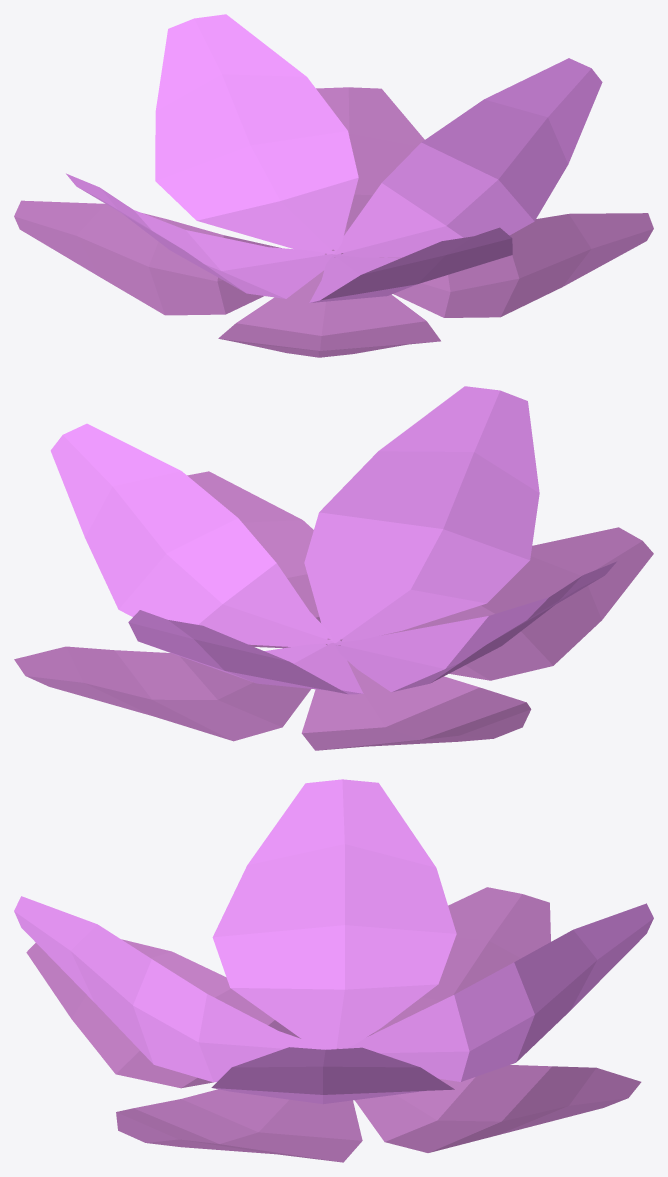
File: waterlily_purpleflower.fbx
3 views of the same model, one above another, from view 1: azimuth 30°, elevation 25°; view 2: azimuth 150°, elevation 25°; view 3: azimuth 270°, elevation 25° (orthographic). The views are drawn at different scales.
Parts seen in each view (by area): view 1: Flower_Purple; view 2: Flower_Purple; view 3: Flower_Purple.
Part boxes in pixels (x1,y1,x2,y2): Flower_Purple: (14, 14, 653, 357); Flower_Purple: (14, 386, 653, 750); Flower_Purple: (14, 779, 653, 1162).
Size of the model in its own units: 11.58 by 3.48 by 11.58.
